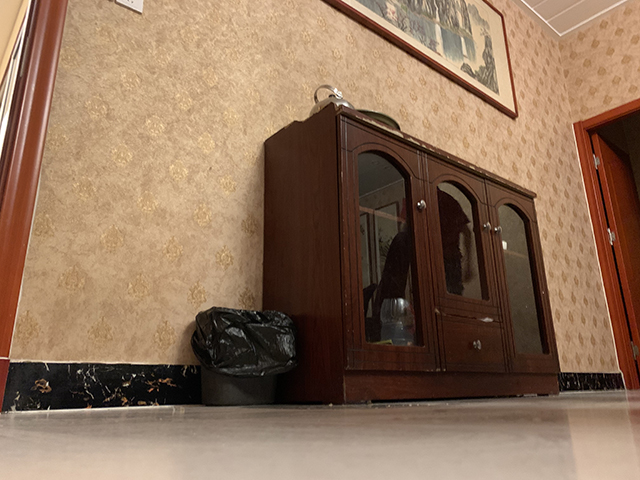cabinet: (261, 101, 563, 407)
trashcan: (190, 305, 296, 409)
